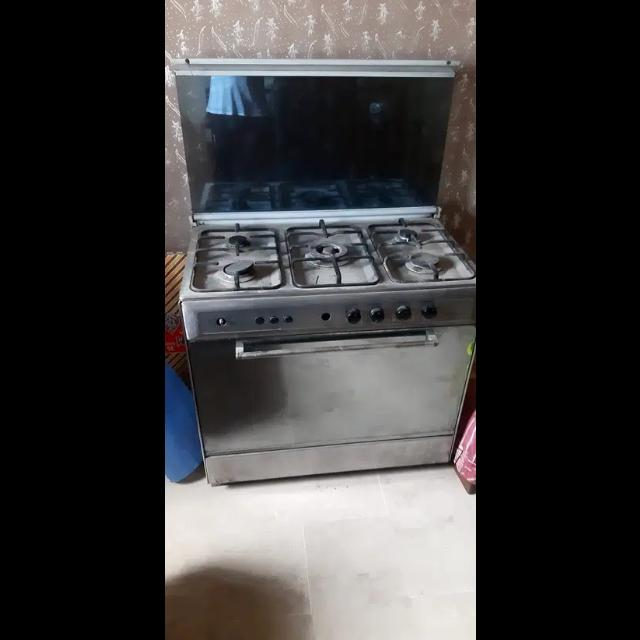Oven: (173, 282, 475, 468)
